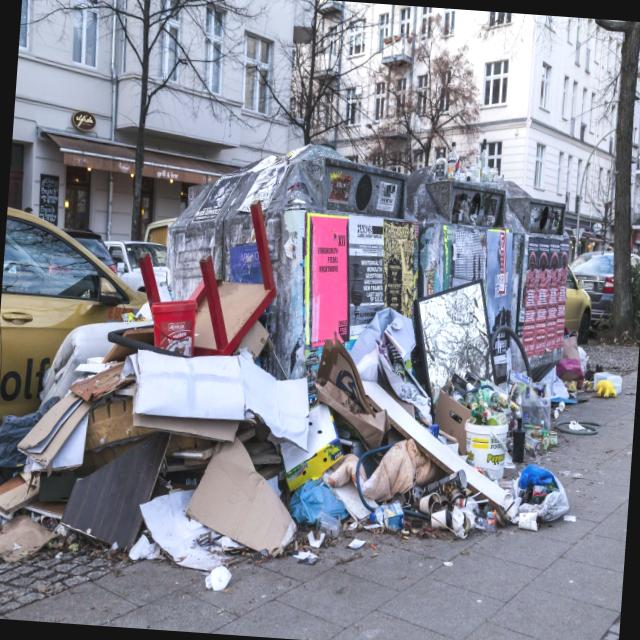garbage: (0, 199, 640, 603)
